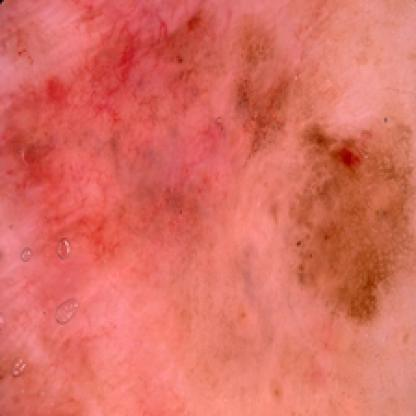malignant: (301, 108, 392, 249)
